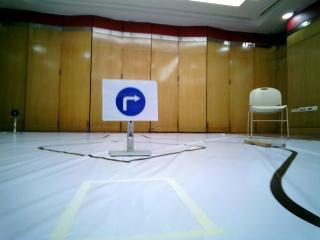right: (100, 78, 161, 122)
